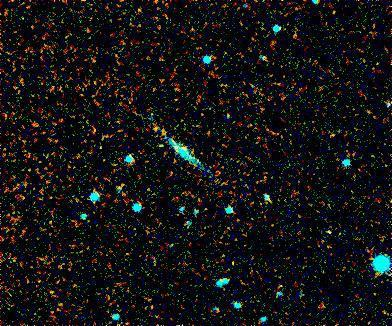star: (140, 112, 170, 142)
